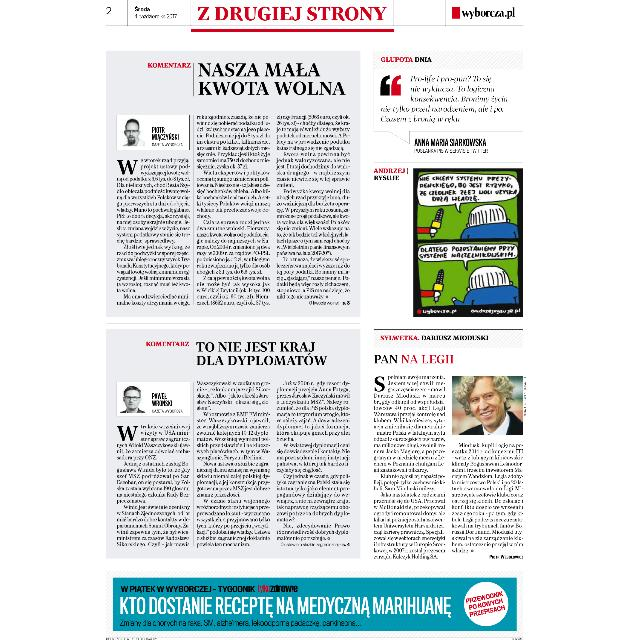article: (106, 51, 360, 321), (106, 329, 360, 559), (374, 332, 528, 564)
